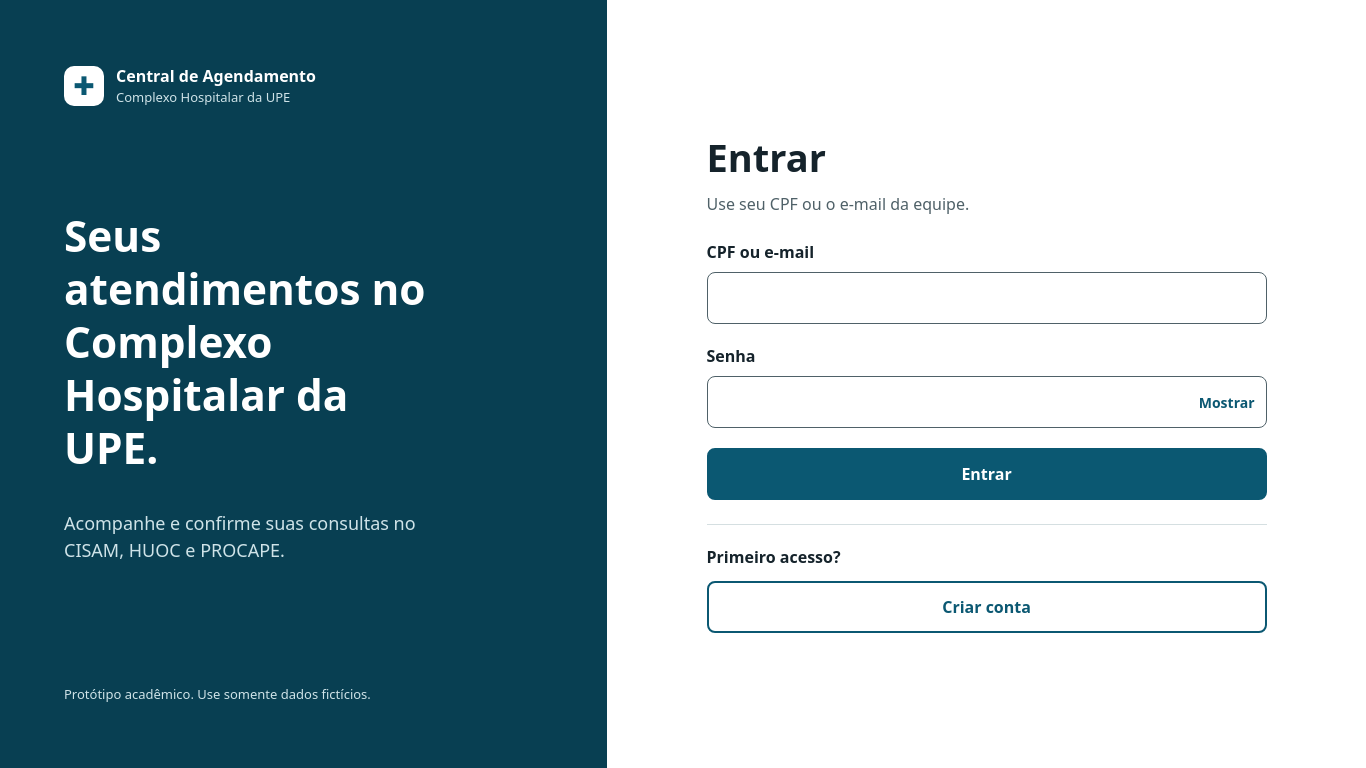
Test: ADR-003 — entrar › encaminha senha temporária à troca protegida, consultando só a sessão
This screenshot has width=1366, height=768.
Type "00000000191" into the field labelled "CPF ou e-mail" at (986, 298), box [706,272,1266,324]
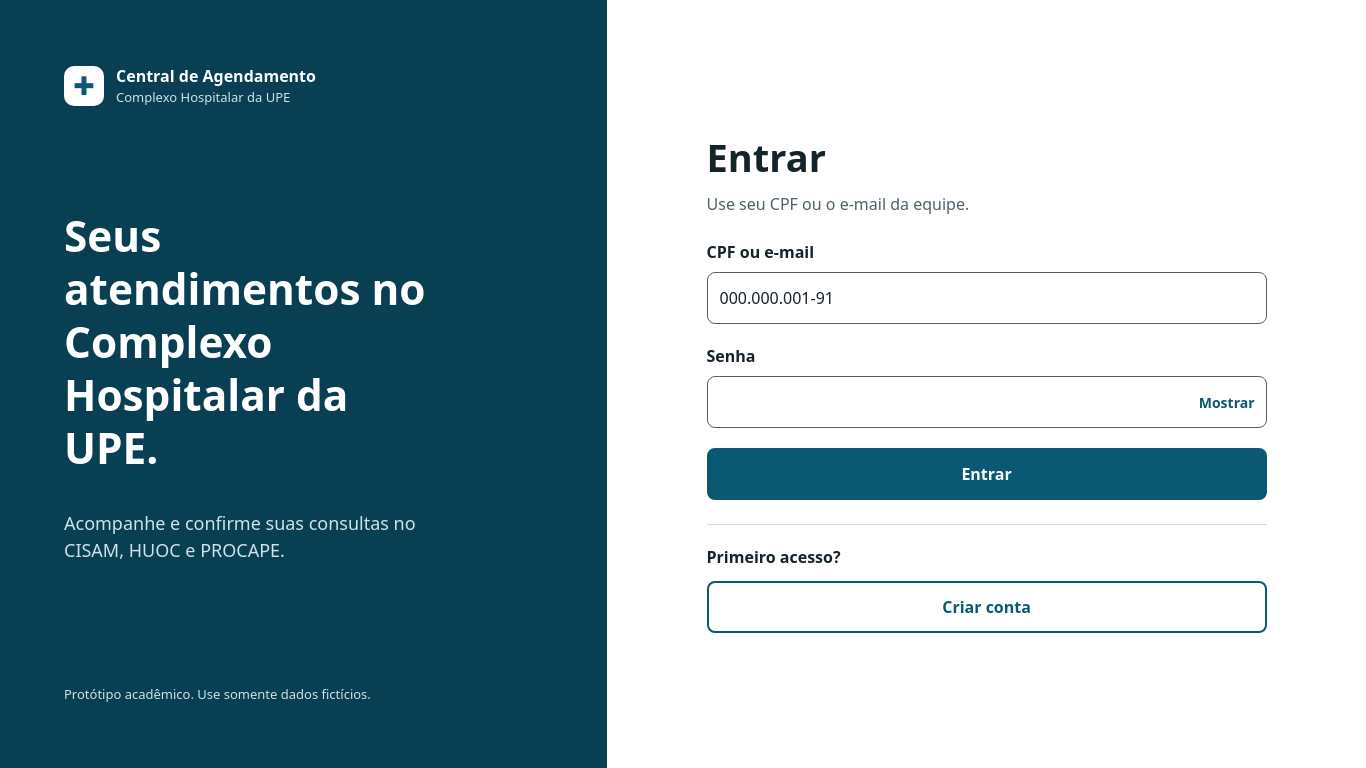
Type "Temporaria!123" into the password field labelled "Senha" at (986, 402), box [706,376,1266,428]
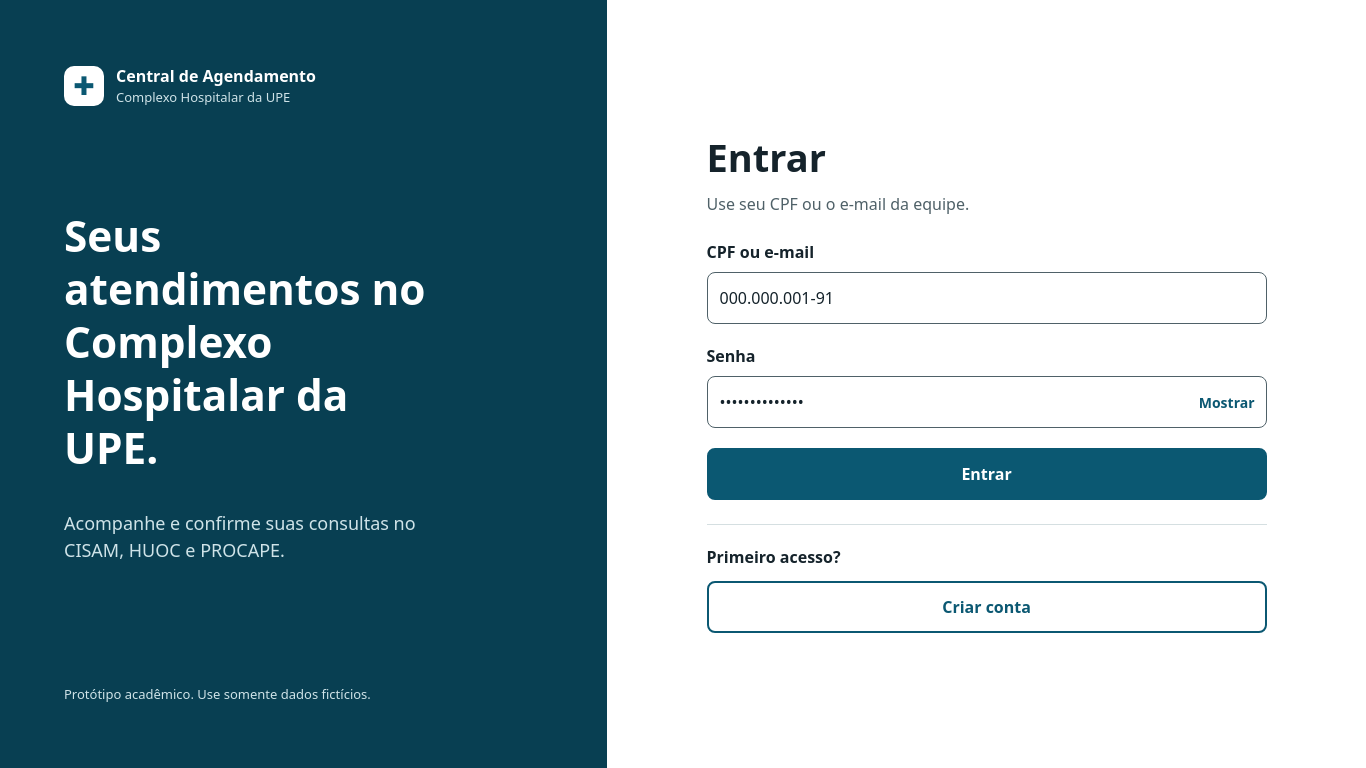
Click the button "Entrar" at (986, 474), box [706,448,1266,500]
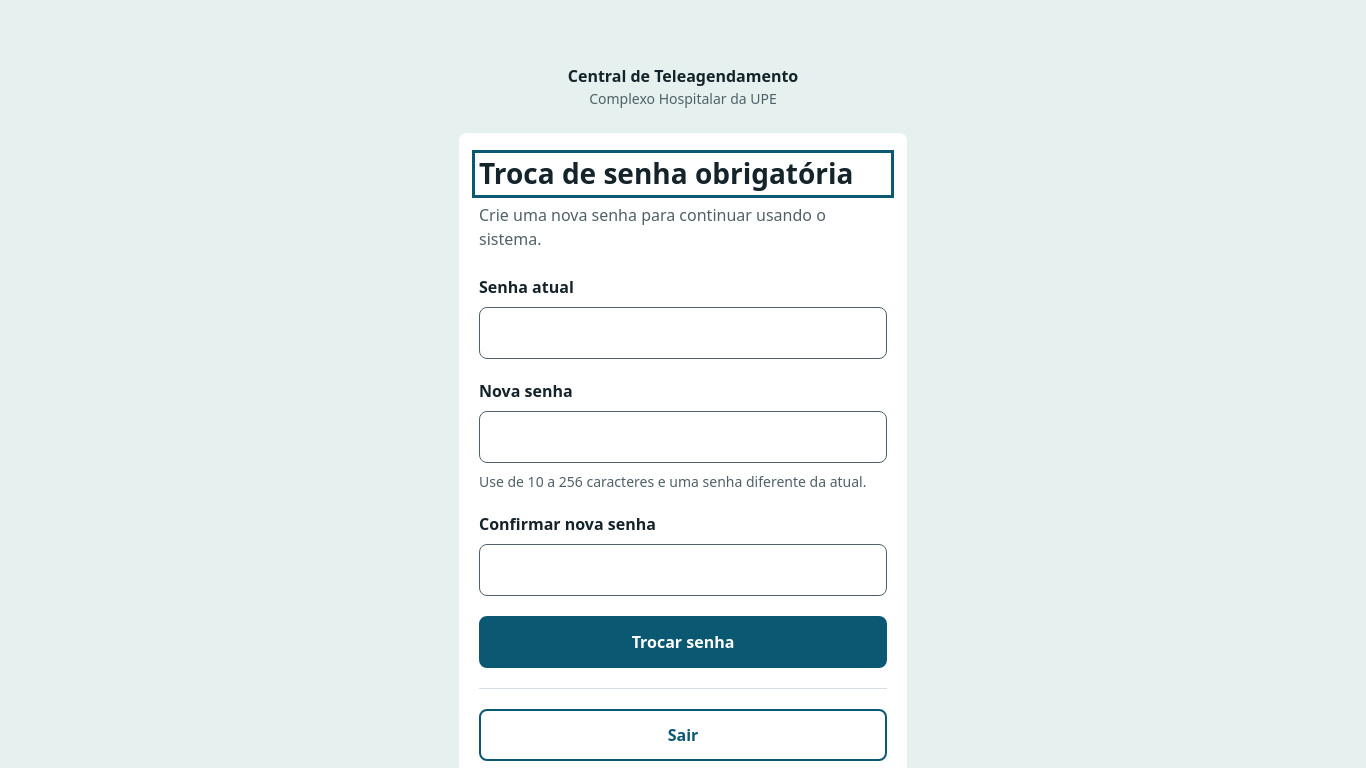
Expected: the heading "Troca de senha obrigatória" is shown, [479,157,887,191]
Expected: the password field labelled "Senha atual" is shown, [479,307,887,359]
